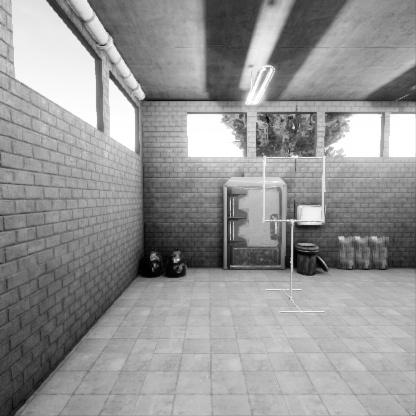gate: (263, 196, 330, 262)
